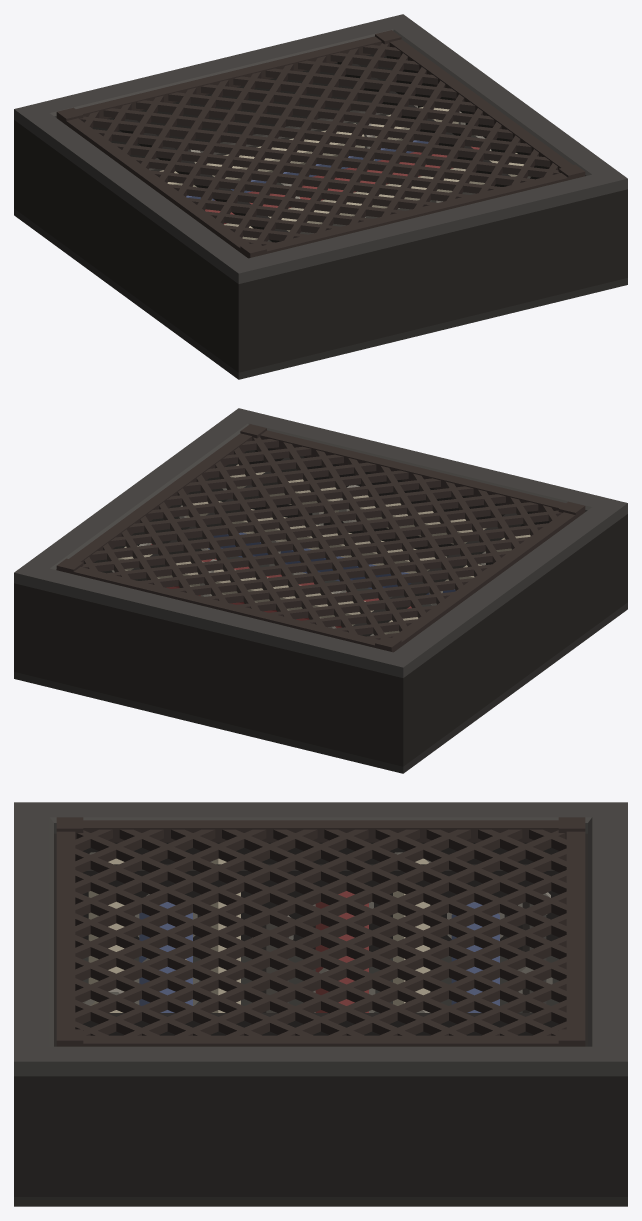
File: FloorGrate.fbx
3 renders of one model, top to bottom at view 1: azimuth 30°, elevation 25°; view 2: azimuth 150°, elevation 25°; view 3: azimuth 270°, elevation 25°, orthographic. The views are drawn at different scales.
Visible parts, largest first — view 1: FloorGrate_Grate, FloorGrate_Liner, FloorGrate_Frame, FloorGrate_PitFloor, FloorGrate_PipeCream, FloorGrate_PipeRed, FloorGrate_PipeDark; view 2: FloorGrate_Grate, FloorGrate_Liner, FloorGrate_Frame, FloorGrate_PitFloor, FloorGrate_PipeCream, FloorGrate_PipeBlue, FloorGrate_Fittings; view 3: FloorGrate_Grate, FloorGrate_Liner, FloorGrate_Frame, FloorGrate_PitFloor, FloorGrate_PipeCream, FloorGrate_PipeBlue, FloorGrate_Fittings, FloorGrate_PipeRed, FloorGrate_PipeDark.
Boxes of the visible parts, x1,y1,x2,y2 form: FloorGrate_Grate: (56, 30, 585, 258); FloorGrate_Liner: (14, 54, 627, 372); FloorGrate_Frame: (14, 14, 627, 283); FloorGrate_PitFloor: (14, 192, 627, 379); FloorGrate_PipeCream: (159, 106, 523, 240); FloorGrate_PipeRed: (205, 146, 479, 224); FloorGrate_PipeDark: (148, 110, 475, 241); FloorGrate_Grate: (56, 424, 585, 652); FloorGrate_Liner: (14, 448, 627, 766); FloorGrate_Frame: (14, 408, 627, 677); FloorGrate_PitFloor: (14, 556, 627, 773); FloorGrate_PipeCream: (118, 464, 530, 634); FloorGrate_PipeBlue: (208, 532, 455, 594); FloorGrate_Fittings: (112, 485, 485, 635); FloorGrate_Grate: (56, 817, 585, 1046); FloorGrate_Liner: (14, 833, 627, 1196); FloorGrate_Frame: (14, 802, 627, 1076); FloorGrate_PitFloor: (14, 956, 627, 1206); FloorGrate_PipeCream: (88, 858, 430, 1012); FloorGrate_PipeBlue: (139, 902, 499, 1012); FloorGrate_Fittings: (82, 852, 552, 1012); FloorGrate_PipeRed: (315, 891, 368, 1012); FloorGrate_PipeDark: (261, 901, 546, 1012).
Bounding box in the file's own units: 11.5 × 3.06 × 11.5.
